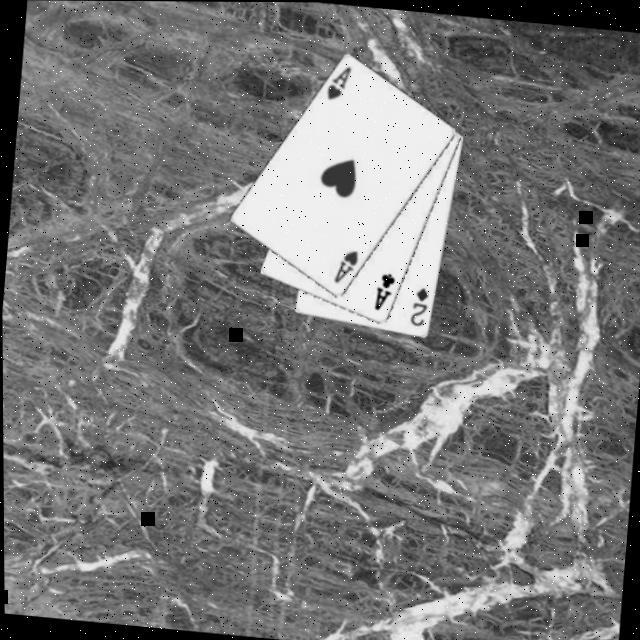2D: (405, 284, 430, 330)
AC: (369, 269, 397, 314)
AH: (329, 245, 360, 288), (322, 62, 353, 104)
